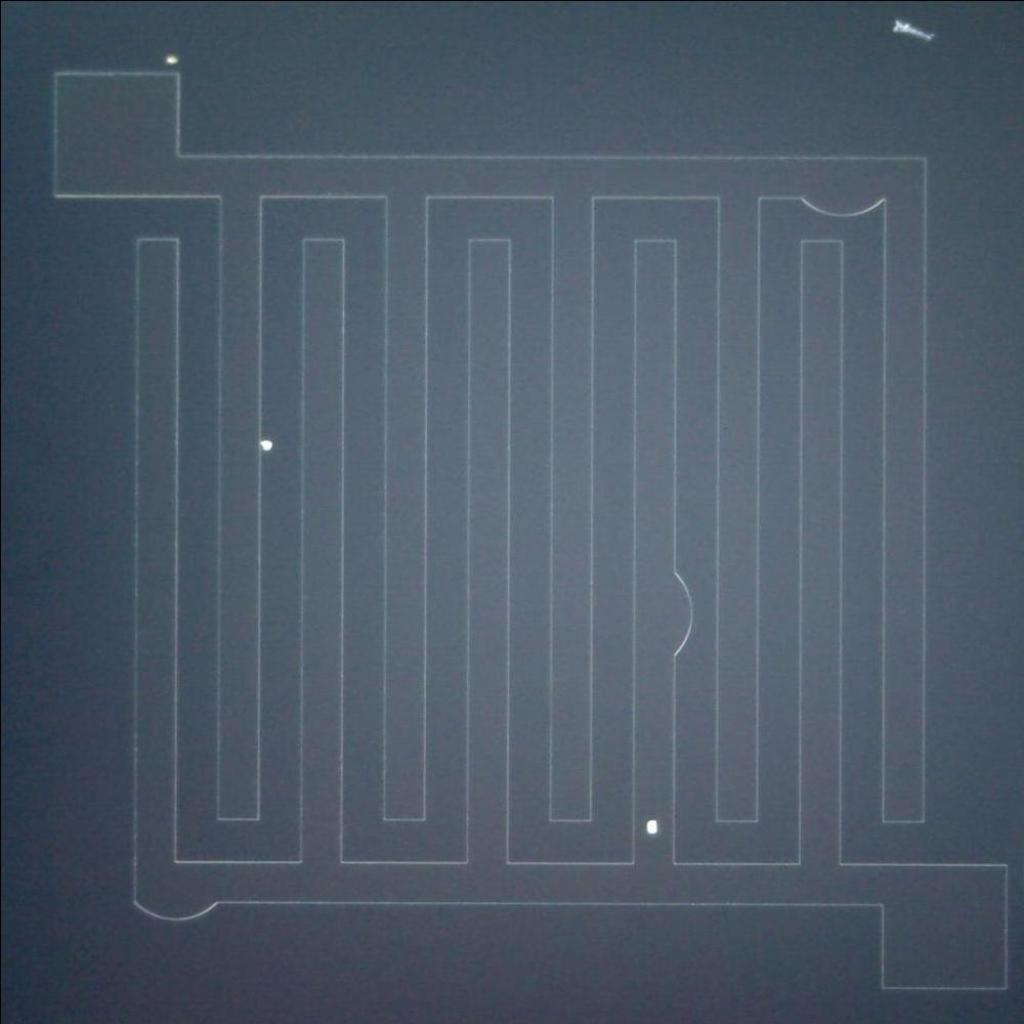curve circuit: (661, 558, 702, 670), (130, 885, 234, 927), (788, 182, 898, 220)
scratch: (891, 13, 937, 43)
spot: (244, 427, 286, 461), (639, 805, 670, 840), (151, 44, 185, 75)
